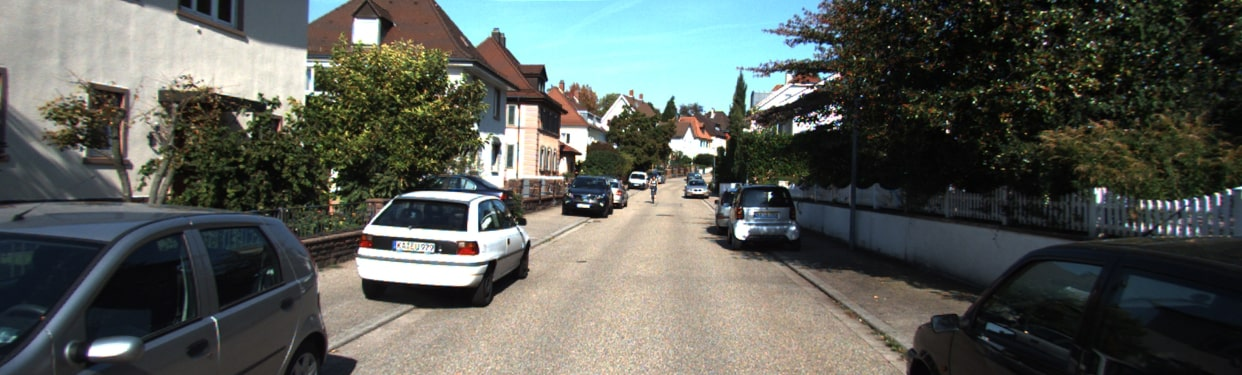Cyclist: (643, 176, 663, 204)
car: (1, 210, 326, 375), (906, 246, 1242, 367), (353, 192, 530, 300), (736, 184, 789, 247), (561, 173, 611, 215), (713, 192, 732, 232)
